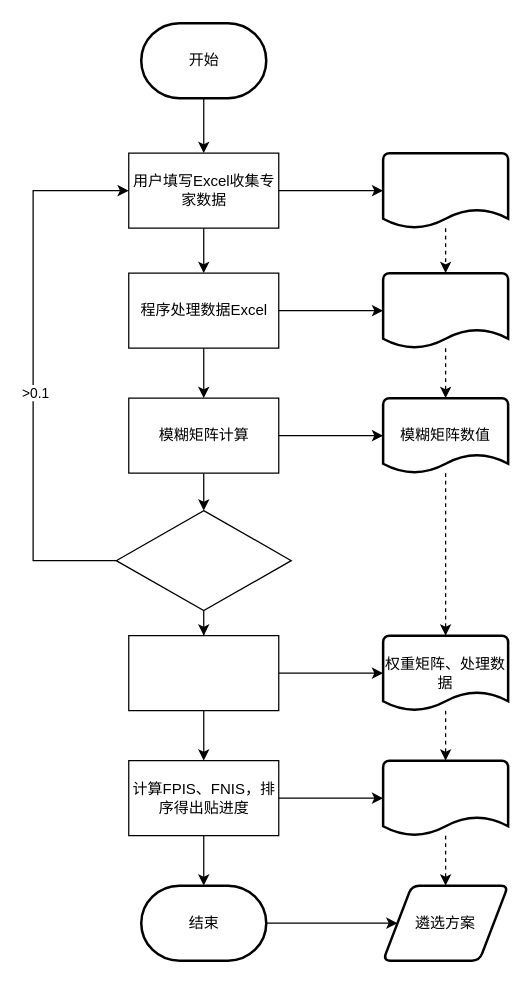
The diagram is 531 pixels wide and 983 high, and some of its shapes have lost their labels. Each missing label, with the box of its shape:
FPIS: (381, 759, 509, 836)
原始数据集: (381, 151, 509, 229)
处理后的数据集: (381, 271, 509, 349)
标准度计算: (115, 509, 291, 611)
计算综合模糊度、权重，并归一化处理: (128, 634, 279, 711)
